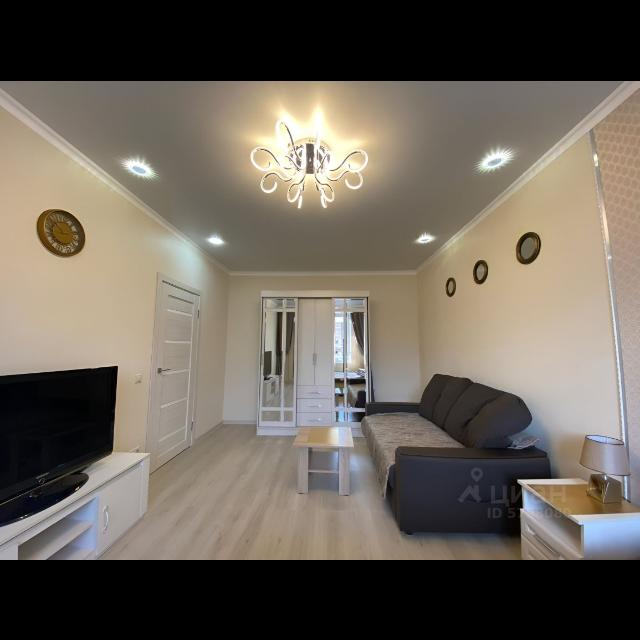Flat-Panel-TV: (2, 362, 118, 544)
